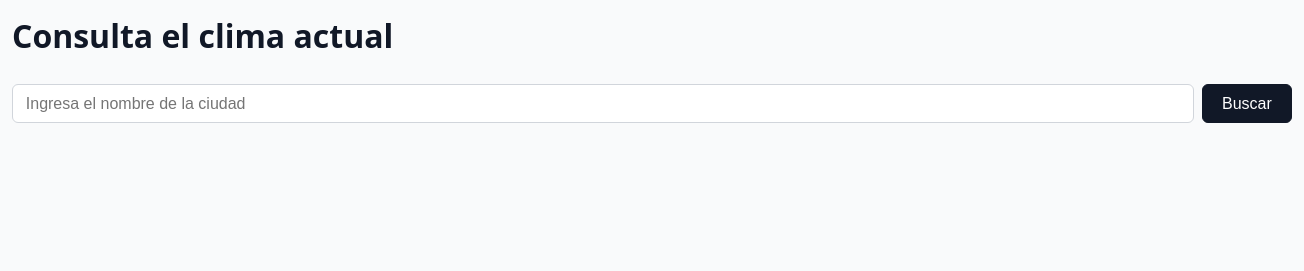
Test: WeatherDashboard › muestra la información del clima al hacer clic en Buscar
Type "El Alto, BO" into the field labelled "Ingresa el nombre de la ciudad".
click(603, 104); type("El Alto, BO")  # box top-left (12, 84), bottom-right (1194, 123)
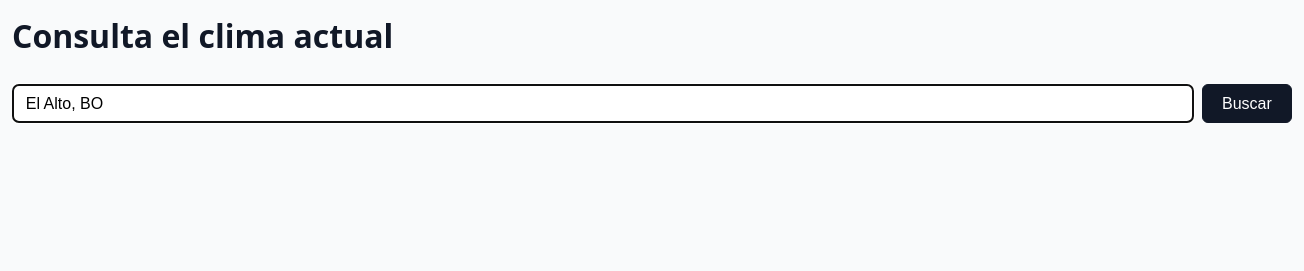
Click the button "Buscar".
click(1247, 104)  # box top-left (1202, 84), bottom-right (1292, 123)
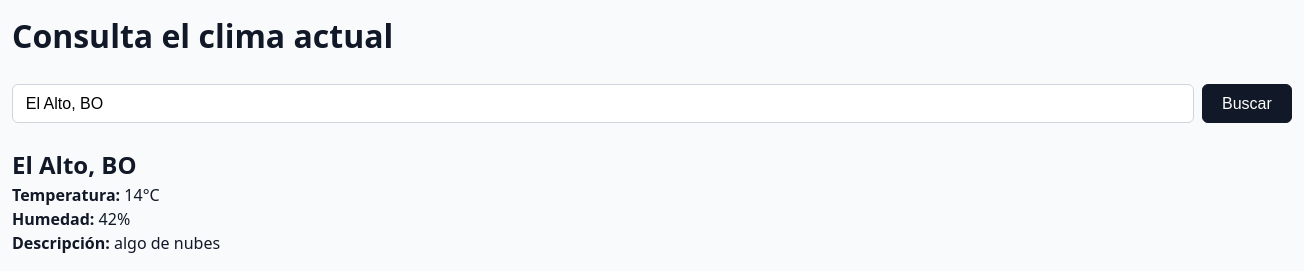
Result: the heading "El Alto, BO" is shown at top-left (12, 148), bottom-right (136, 181)
Result: the text "Temperatura: 14°C" is shown at top-left (12, 184), bottom-right (160, 206)
Result: the text "Humedad: 42%" is shown at top-left (12, 208), bottom-right (130, 230)
